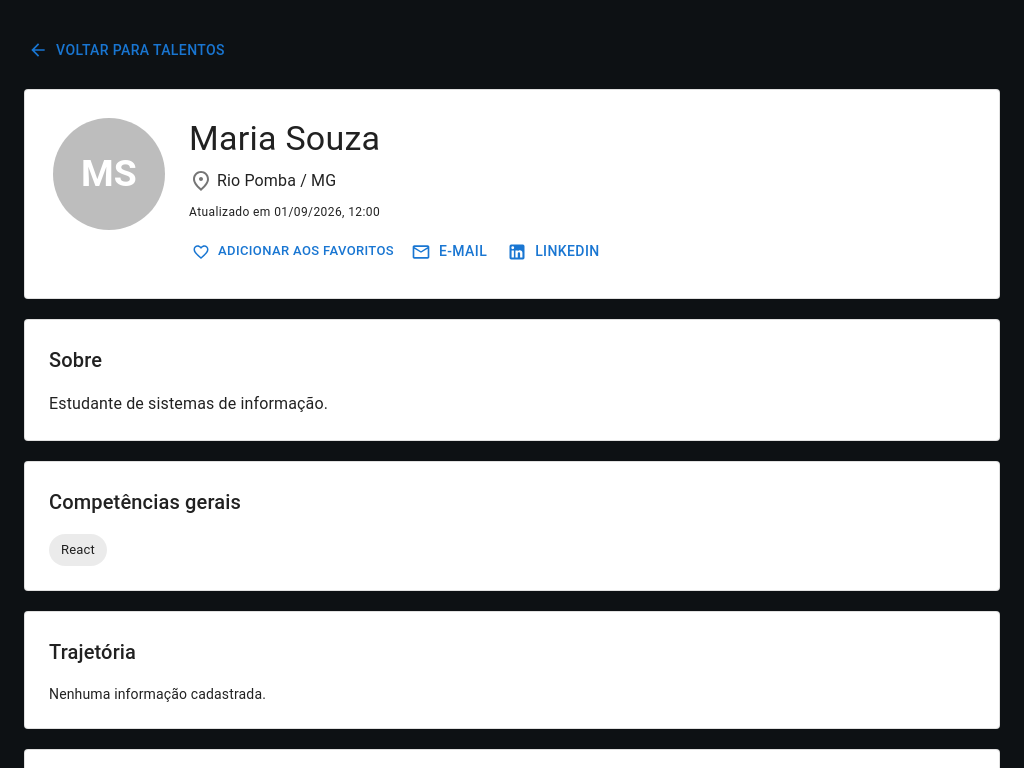
it: TalentProfileView › favorite › shows the unavailable page when the favorite request finds no profile
The image size is (1024, 768).
Expected: the heading "Maria Souza" is shown, x1=189 y1=118 x2=380 y2=160
Click the button with aria-label "Adicionar aos favoritos: Maria Souza" at (294, 252), box x1=189 y1=233 x2=399 y2=270
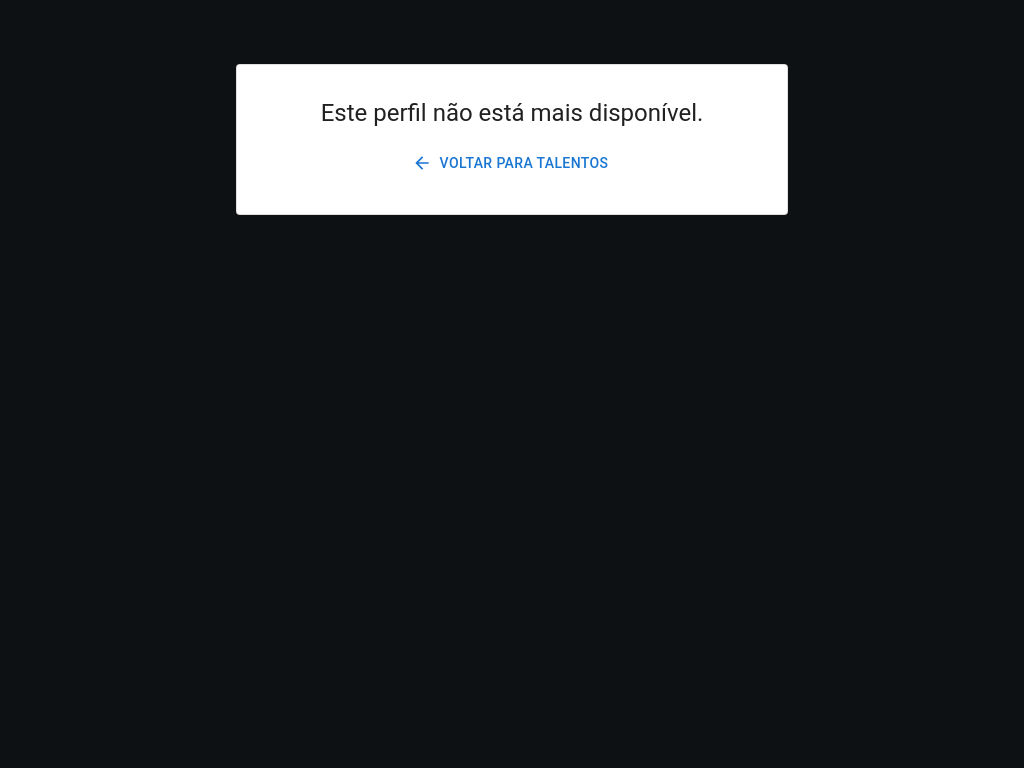
Expected: the heading "Este perfil não está mais disponível." is shown, x1=321 y1=99 x2=703 y2=127
Expected: the heading "Maria Souza" is gone
